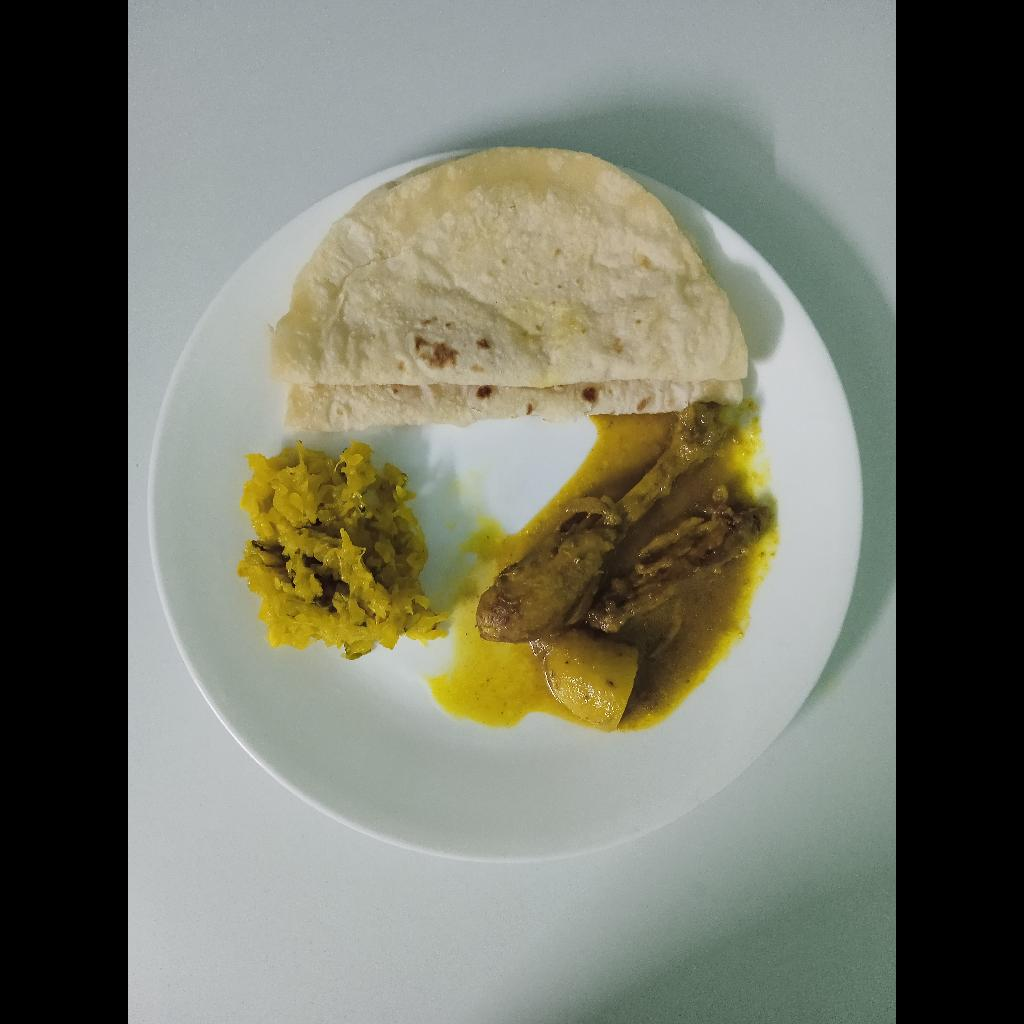cabbage: (237, 438, 447, 661)
chicken: (477, 414, 768, 645)
potato: (542, 628, 639, 734)
ruti: (265, 146, 748, 432)
